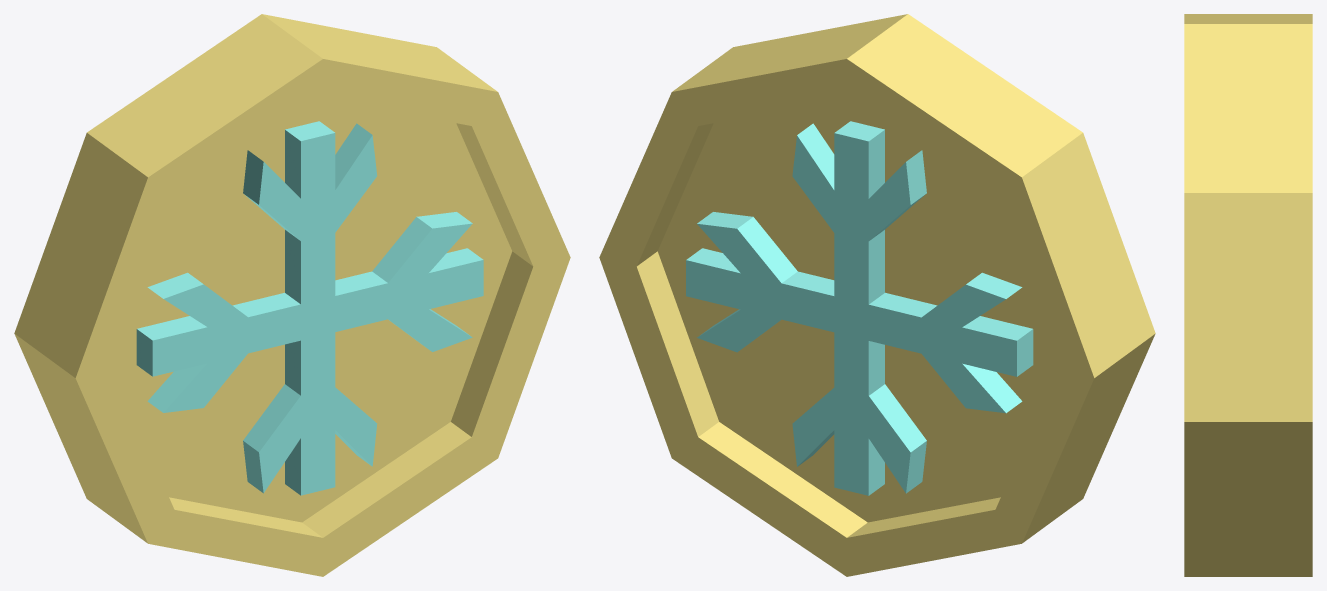
The model's file is Coin.fbx.
3 renders of one model, left to right at view 1: azimuth 30°, elevation 25°; view 2: azimuth 150°, elevation 25°; view 3: azimuth 270°, elevation 25°, orthographic. The views are drawn at different scales.
Visible parts, largest first — view 1: polySurface11; view 2: polySurface11; view 3: polySurface11.
Boxes of the visible parts, left/top/right/bottom form: polySurface11: left=14, top=14, right=570, bottom=576; polySurface11: left=599, top=14, right=1155, bottom=576; polySurface11: left=1184, top=14, right=1312, bottom=576.
Bounding box in the file's own units: 4.34 × 4.34 × 0.9303.
